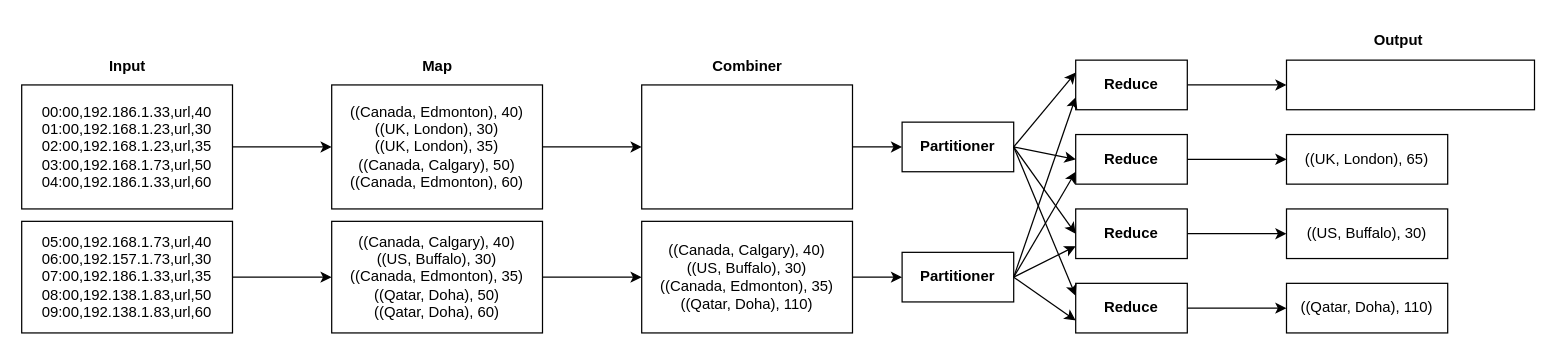
Some shapes in this 1556 by 355 pixel diagram are drawn without their labels. Each missing label, with the box of its shape:
((Canada, Edmonton), 100) ((UK, London), 65) ((Canada, Calgary), 50): (640, 84, 852, 209)
((Canada, Edmonton), 135) ((Canada, Calgary), 90): (1285, 59, 1534, 110)
